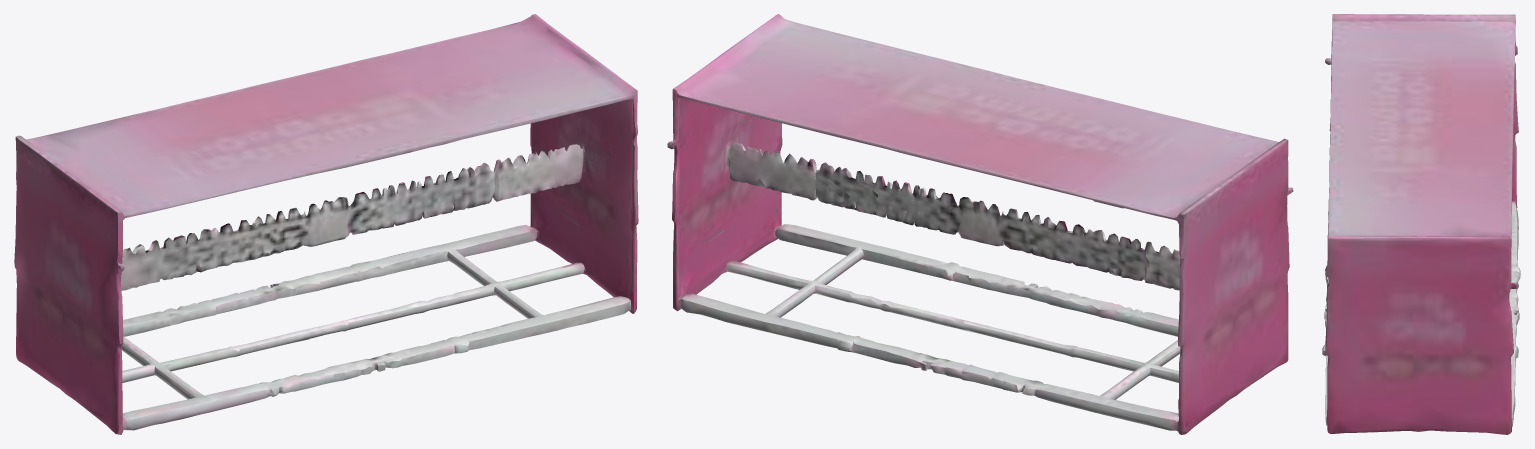
3 views of the same model, side by side, from view 1: azimuth 30°, elevation 25°; view 2: azimuth 150°, elevation 25°; view 3: azimuth 270°, elevation 25° (orthographic). The views are drawn at different scales.
Visible parts, largest first — view 1: world; view 2: world; view 3: world.
Part boxes in pixels (x1,y1,x2,y2): world: (14,14,638,434); world: (667,14,1293,434); world: (1322,14,1520,434).
Bounding box in the file's own units: 0.5791 × 0.239 × 0.216.
Materials: 1 (1 with a texture image).
